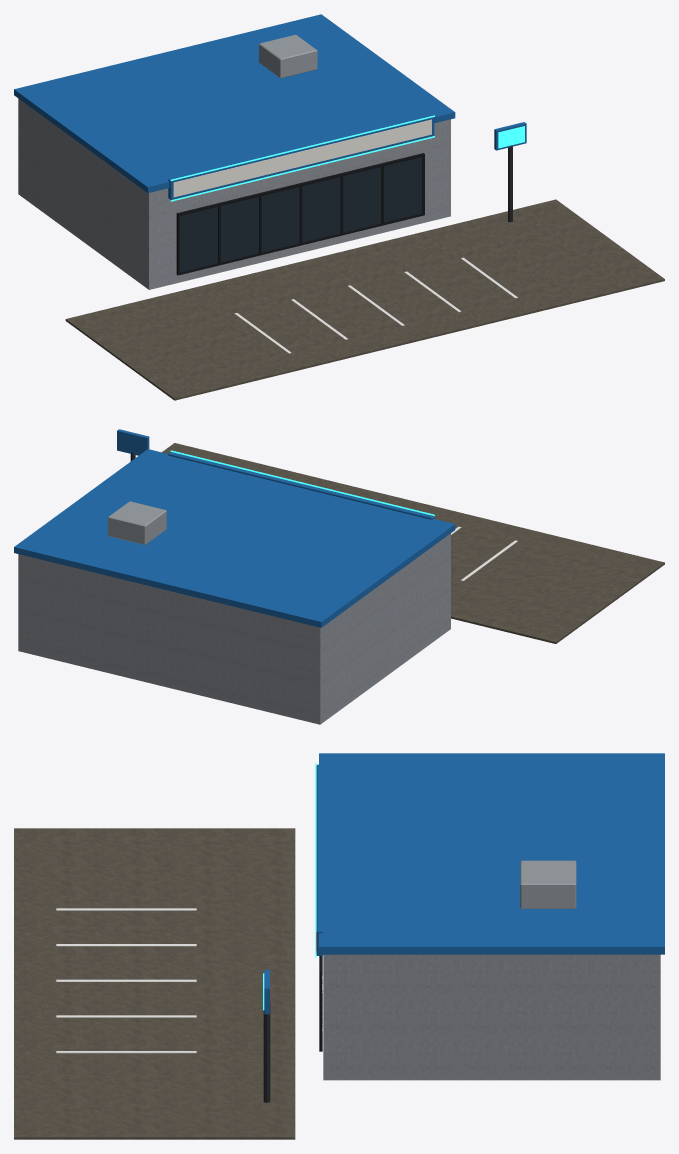
The model's file is OT_Laundromat_A.glb.
The picture shows the model from 3 angles, top to bottom: view 1: azimuth 30°, elevation 25°; view 2: azimuth 150°, elevation 25°; view 3: azimuth 270°, elevation 25°; orthographic projection. The views are drawn at different scales.
Visible parts, largest first — view 1: OT_Laundromat_A_Pavement, OT_Laundromat_A_LaunBlue__1f6db0, OT_Laundromat_A_Stucco, OT_Laundromat_A_Glass__22303a, OT_Laundromat_A_SignFace__f2efe6, OT_Laundromat_A_Frame__18191c, OT_Laundromat_A_SteelGrey__9aa0a6, OT_Laundromat_A_NeonCyan__2fe0ff, OT_Laundromat_A_PaintWhite__f0f0ee; view 2: OT_Laundromat_A_LaunBlue__1f6db0, OT_Laundromat_A_Stucco, OT_Laundromat_A_Pavement, OT_Laundromat_A_SteelGrey__9aa0a6, OT_Laundromat_A_NeonCyan__2fe0ff; view 3: OT_Laundromat_A_Pavement, OT_Laundromat_A_LaunBlue__1f6db0, OT_Laundromat_A_Stucco, OT_Laundromat_A_SteelGrey__9aa0a6, OT_Laundromat_A_PaintWhite__f0f0ee, OT_Laundromat_A_PoleDark__2a2c30.
Part boxes in pixels (<box>): OT_Laundromat_A_Pavement: <box>65,199,664,400</box>; OT_Laundromat_A_LaunBlue__1f6db0: <box>14,14,526,199</box>; OT_Laundromat_A_Stucco: <box>18,98,450,289</box>; OT_Laundromat_A_Glass__22303a: <box>179,157,422,272</box>; OT_Laundromat_A_SignFace__f2efe6: <box>173,119,431,197</box>; OT_Laundromat_A_Frame__18191c: <box>176,153,424,275</box>; OT_Laundromat_A_SteelGrey__9aa0a6: <box>259,34,317,78</box>; OT_Laundromat_A_NeonCyan__2fe0ff: <box>170,115,524,201</box>; OT_Laundromat_A_PaintWhite__f0f0ee: <box>234,257,517,353</box>; OT_Laundromat_A_LaunBlue__1f6db0: <box>14,429,455,627</box>; OT_Laundromat_A_Stucco: <box>18,533,450,724</box>; OT_Laundromat_A_Pavement: <box>162,443,664,643</box>; OT_Laundromat_A_SteelGrey__9aa0a6: <box>108,501,166,544</box>; OT_Laundromat_A_NeonCyan__2fe0ff: <box>170,450,434,515</box>; OT_Laundromat_A_Pavement: <box>14,828,295,1139</box>; OT_Laundromat_A_LaunBlue__1f6db0: <box>264,753,664,1014</box>; OT_Laundromat_A_Stucco: <box>323,954,660,1080</box>; OT_Laundromat_A_SteelGrey__9aa0a6: <box>520,860,576,908</box>; OT_Laundromat_A_PaintWhite__f0f0ee: <box>56,908,196,1053</box>; OT_Laundromat_A_PoleDark__2a2c30: <box>263,1002,270,1102</box>.
Bounding box in the file's own units: 26 × 6.3 × 23.15.
Materials: 13 (2 with a texture image).
